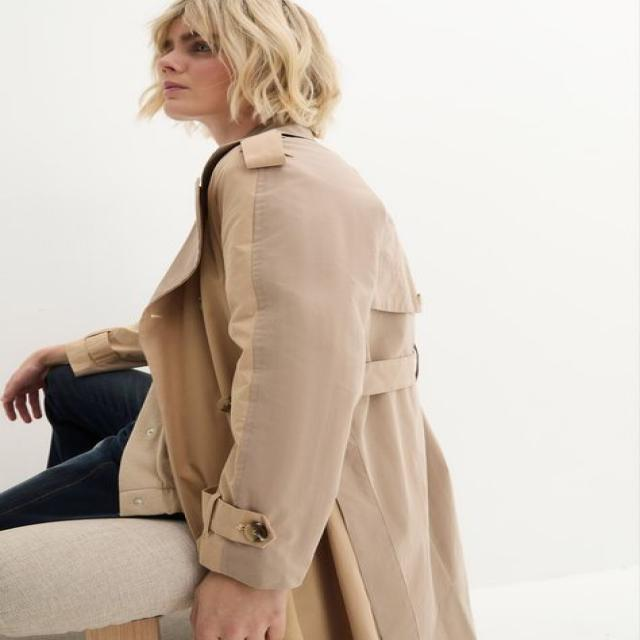coat: (64, 118, 482, 640)
trousers: (0, 361, 157, 535)
